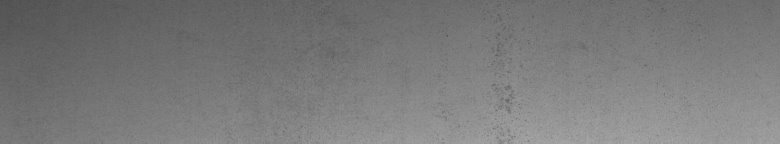ib: (492, 44, 586, 114)
